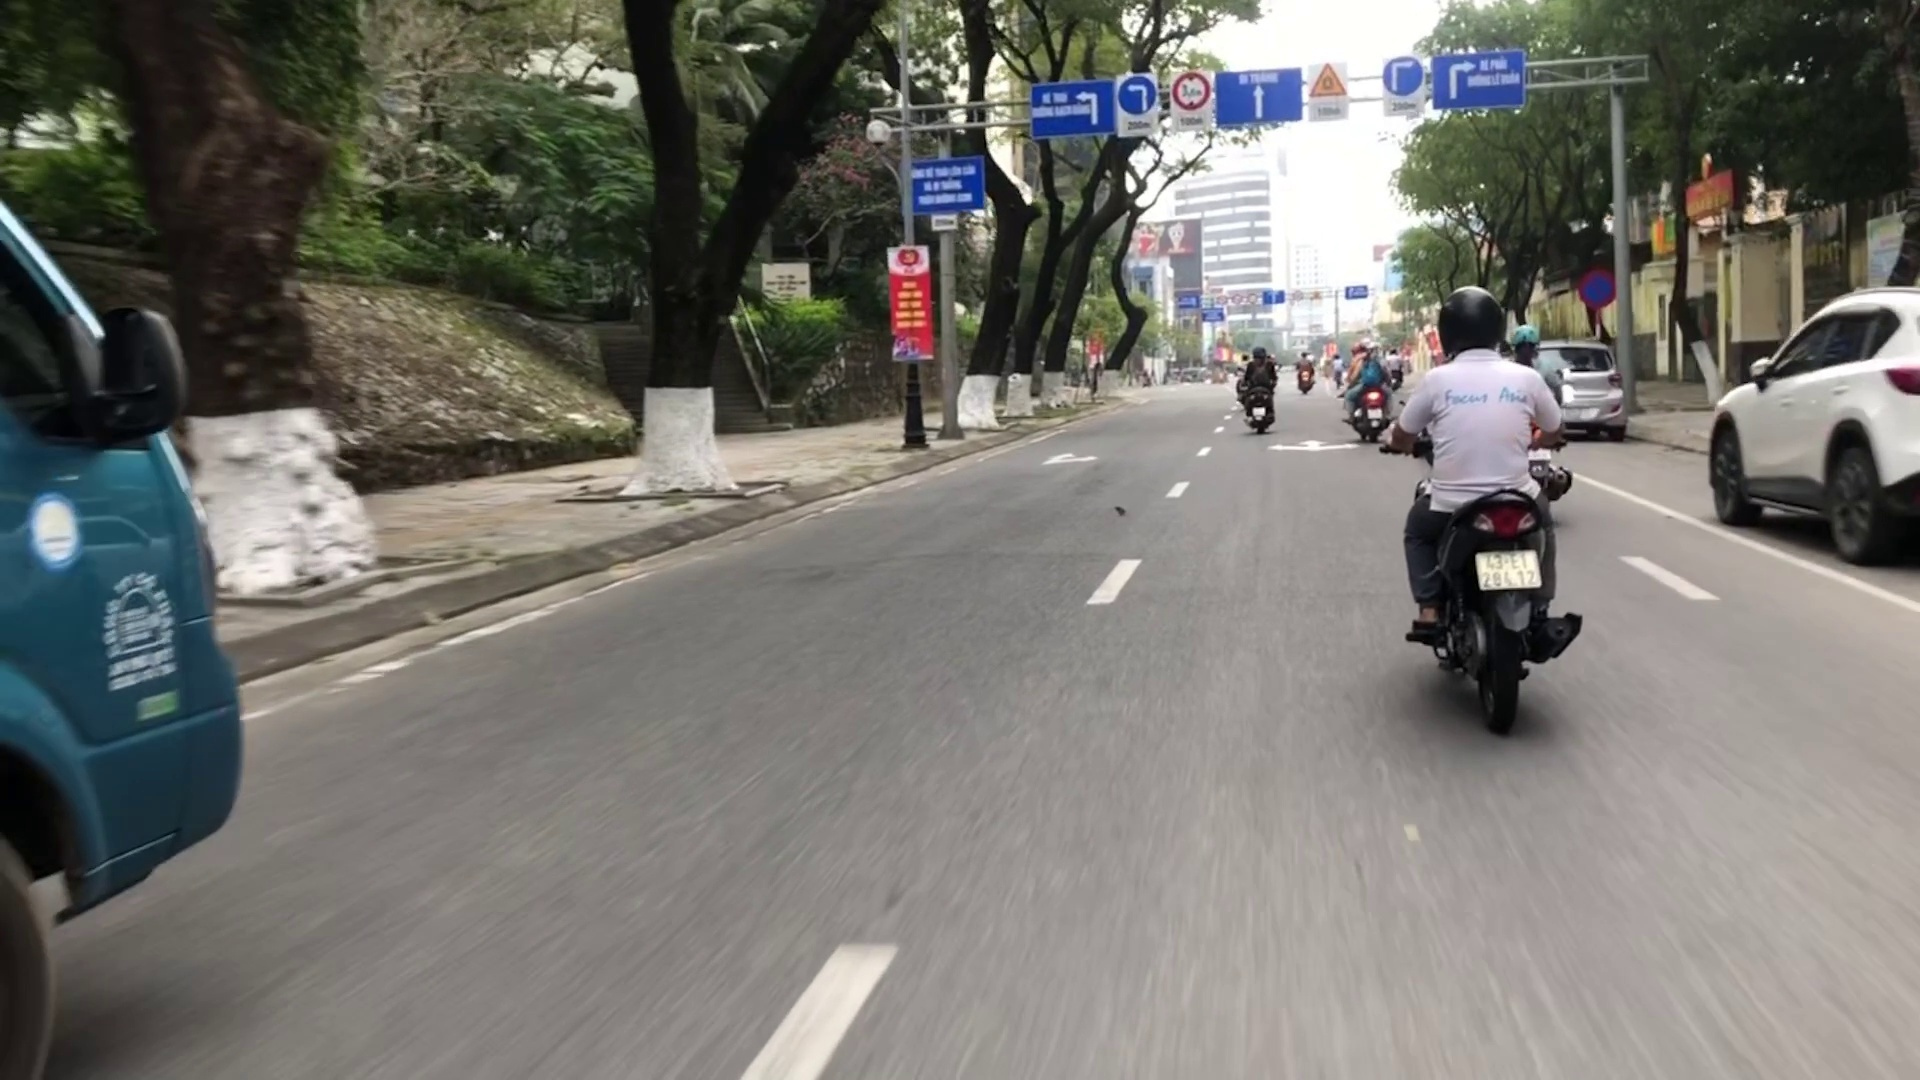Bien khac: (1375, 61, 1428, 120), (1113, 79, 1156, 138), (1172, 73, 1211, 131), (1309, 66, 1344, 124)
Cam do xe: (1576, 270, 1610, 307)
